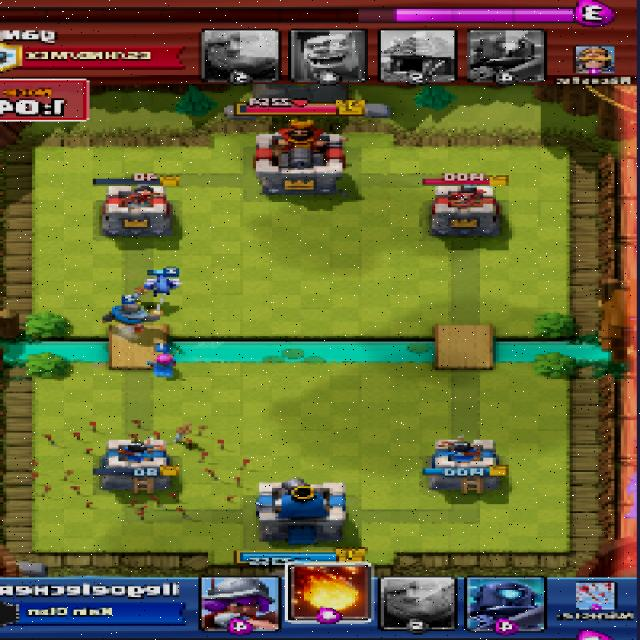Enemy-Arrow: (29, 420, 249, 518)
Player-Archer: (149, 356, 178, 377)
Player-Knight: (101, 303, 168, 335)
Player-Minion: (145, 274, 179, 296)
